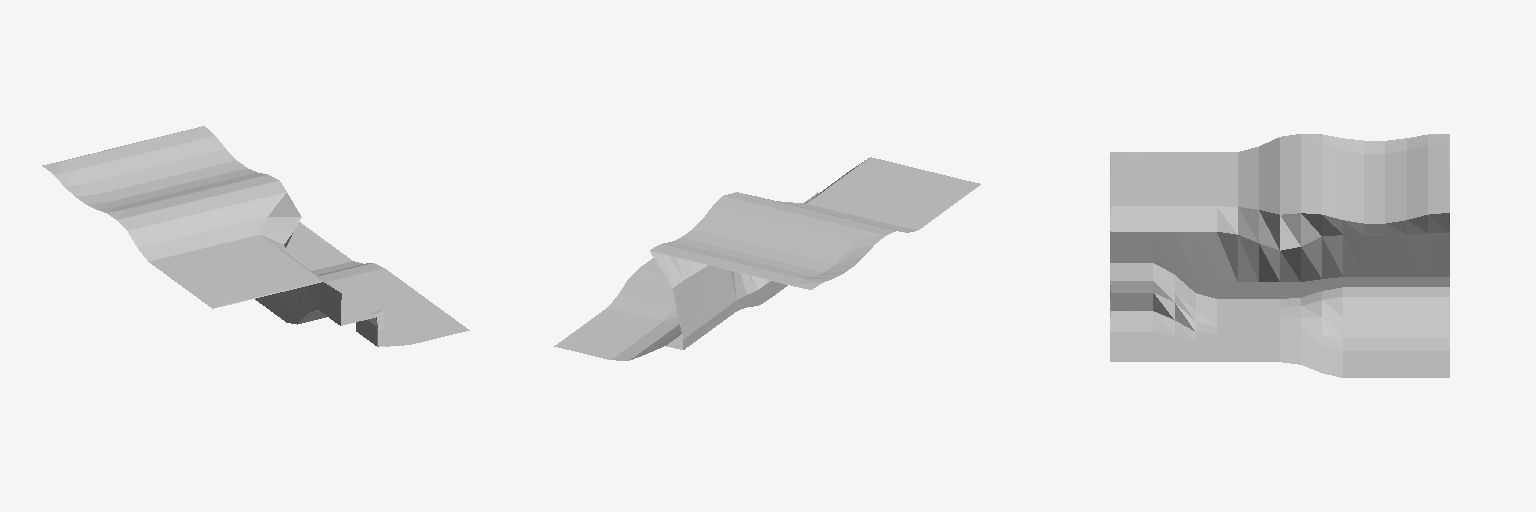
The model's file is TestCaveUntextured.obj.
The picture shows the model from 3 angles: view 1: azimuth 30°, elevation 25°; view 2: azimuth 150°, elevation 25°; view 3: azimuth 270°, elevation 25°; orthographic projection.
Visible parts, largest first — view 1: Plane_Plane.001; view 2: Plane_Plane.001; view 3: Plane_Plane.001.
Part boxes in pixels (x1,y1,x2,y2): Plane_Plane.001: (42,126,469,346); Plane_Plane.001: (554,157,980,360); Plane_Plane.001: (1110,134,1449,377).
Size of the model in its own units: 5.23 by 2.31 by 6.